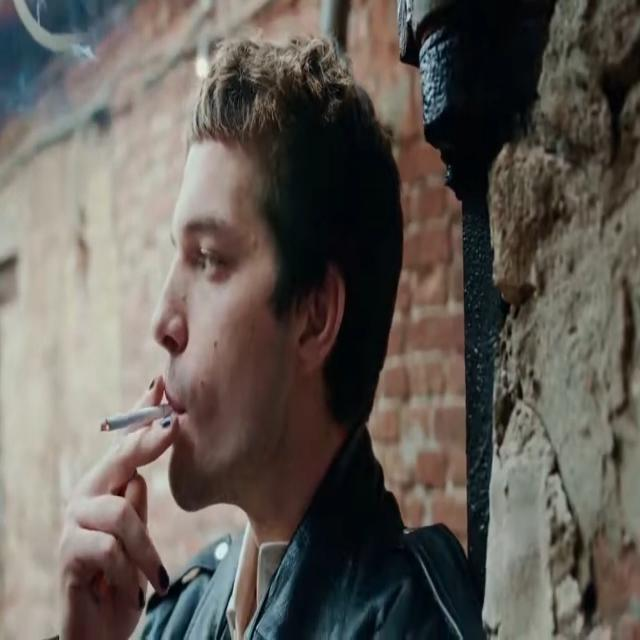Курение: (97, 396, 183, 441)
